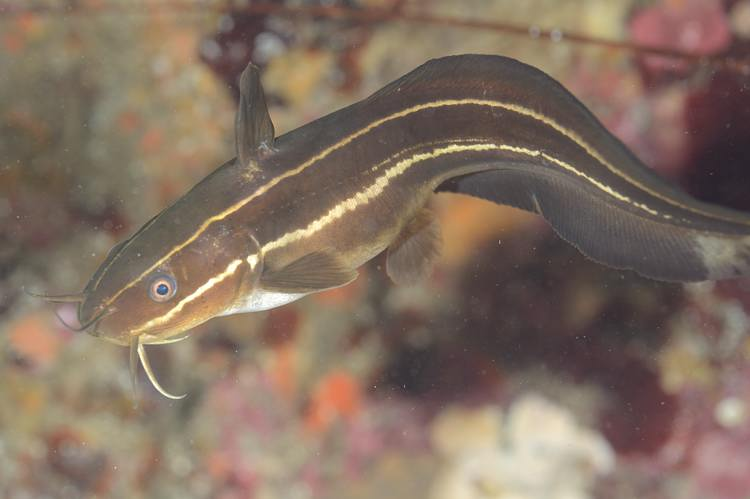gonzui: (30, 62, 750, 401)
